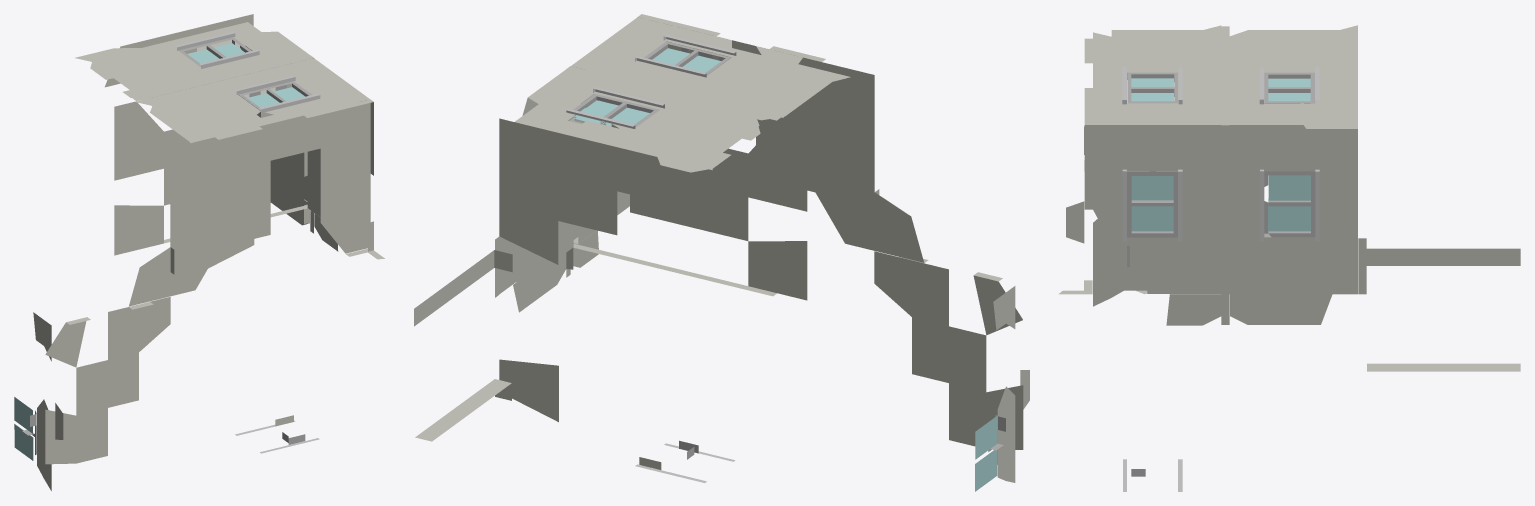
File: Destroy8.obj
3 views of the same model, side by side, from view 1: azimuth 30°, elevation 25°; view 2: azimuth 150°, elevation 25°; view 3: azimuth 270°, elevation 25° (orthographic). The views are drawn at different scales.
Visible parts, largest first — view 1: Destroy8; view 2: Destroy8; view 3: Destroy8.
Boxes of the visible parts, x1,y1,x2,y2 form: Destroy8: [14, 14, 384, 490]; Destroy8: [414, 14, 1029, 491]; Destroy8: [1059, 25, 1520, 491].
Bounding box in the file's own units: 10.11 × 10.11 × 10.81.
